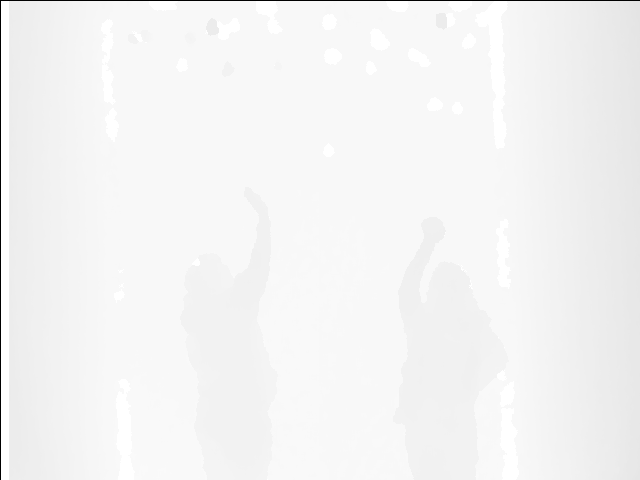hand: (243, 183, 270, 222), (420, 212, 447, 247)
